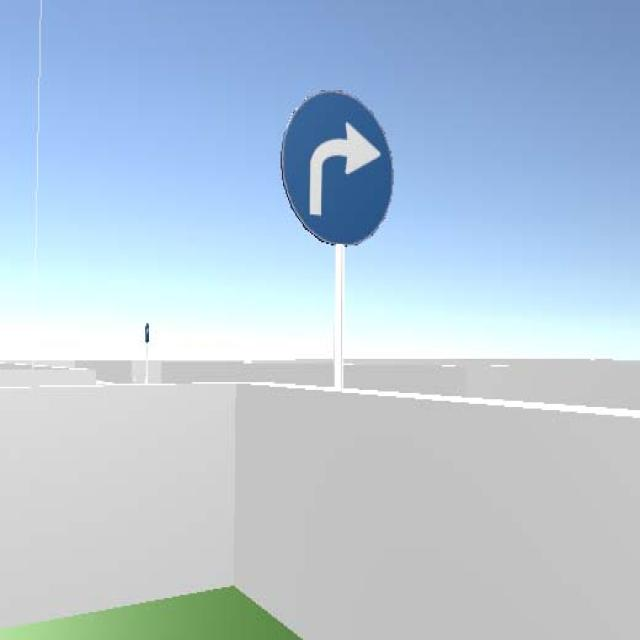sag: (282, 90, 392, 244)
